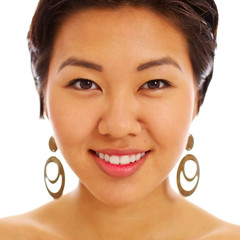teen: (44, 12, 196, 195)
